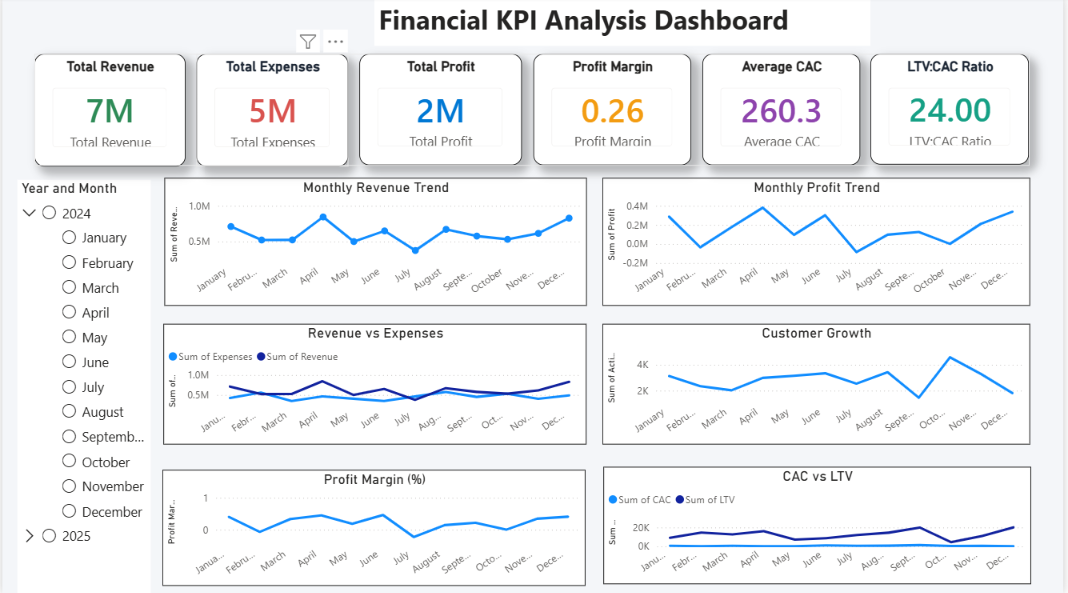

The dashboard page shown, as its layout file describes it:
{"tool":"powerbi","page":{"name":"Page 1","canvas":[1280,720],"ordinal":0},"visuals":[{"type":"cardVisual","title":"Total Revenue","fields":{"Data":["startup_financial_analysis.Total Revenue"]},"box":[38.4,68.6,182.1,135.8],"z":0,"group":"g2"},{"type":"cardVisual","title":"Total Expenses","fields":{"Data":["startup_financial_analysis.Total Expenses"]},"box":[234,68.6,183.5,135.8],"z":1000,"group":"g2"},{"type":"cardVisual","title":"Total Profit","fields":{"Data":["startup_financial_analysis.Total Profit"]},"box":[431,68.6,195.6,134.8],"z":2000,"group":"g2"},{"type":"cardVisual","title":"Profit Margin","fields":{"Data":["startup_financial_analysis.Profit Margin"]},"box":[640.1,68.6,190.2,134.8],"z":3000,"group":"g2"},{"type":"cardVisual","title":"Average CAC","fields":{"Data":["startup_financial_analysis.Average CAC"]},"box":[843.8,68.6,190.2,134.8],"z":4000,"group":"g2"},{"type":"cardVisual","title":"LTV:CAC Ratio","fields":{"Data":["startup_financial_analysis.LTV:CAC Ratio"]},"box":[1047.5,68.6,191.6,133.7],"z":5000,"group":"g2"},{"type":"lineChart","title":"Monthly Revenue Trend","fields":{"Category":["startup_financial_analysis.Month.Variation.Date Hierarchy.Month"],"Y":["Sum(startup_financial_analysis.Revenue)"]},"box":[194.9,218.2,509.4,154.2],"z":6000,"group":"g1"},{"type":"lineChart","title":"Revenue vs Expenses","fields":{"Category":["startup_financial_analysis.Month.Variation.Date Hierarchy.Month"],"Y":["Sum(startup_financial_analysis.Expenses)","Sum(startup_financial_analysis.Revenue)"]},"box":[193.6,393.8,510.8,145.6],"z":7000,"group":"g1"},{"type":"lineChart","title":"Monthly Profit Trend","fields":{"Category":["startup_financial_analysis.Month.Variation.Date Hierarchy.Month"],"Y":["Sum(startup_financial_analysis.Profit)"]},"box":[724.2,218.2,516.1,154.2],"z":8000,"group":"g1"},{"type":"lineChart","title":"Customer Growth","fields":{"Category":["startup_financial_analysis.Month.Variation.Date Hierarchy.Month"],"Y":["Sum(startup_financial_analysis.Active_Customers)"]},"box":[724.2,393.8,516.1,145.6],"z":9000,"group":"g1"},{"type":"lineChart","title":"Profit Margin (%)","fields":{"Category":["startup_financial_analysis.Month.Variation.Date Hierarchy.Month"],"Y":["startup_financial_analysis.Profit Margin"]},"box":[192.8,570.6,510.5,140],"z":10000,"group":"g1"},{"type":"lineChart","title":" CAC vs  LTV","fields":{"Category":["startup_financial_analysis.Month.Variation.Date Hierarchy.Month"],"Y":["Sum(startup_financial_analysis.CAC)","Sum(startup_financial_analysis.LTV)"]},"box":[724.5,566.9,516.1,141.4],"z":11000,"group":"g1"},{"type":"listSlicer","fields":{"Values":["startup_financial_analysis.Month.Variation.Date Hierarchy.Year","startup_financial_analysis.Month.Variation.Date Hierarchy.Month"]},"box":[17.8,220.9,160.5,499.5],"z":11001},{"type":"group","id":"g1","title":"Group 1","box":[192.8,218.2,1047.8,492.4],"z":11002},{"type":"group","id":"g2","title":"Group 2","box":[38.4,68.6,1200.7,135.8],"z":11003},{"type":"textbox","box":[448.7,0,598.3,59],"z":11005}]}

Visuals, with their boxes in screenshot pixels (x1, y1, x2, y2), scaled from the page's 1280x720 canvas onto the 1068x593 screenshot:
"Total Revenue" cardVisual: bbox=(32, 56, 184, 168)
"Total Expenses" cardVisual: bbox=(195, 56, 348, 168)
"Total Profit" cardVisual: bbox=(360, 56, 523, 168)
"Profit Margin" cardVisual: bbox=(534, 56, 693, 168)
"Average CAC" cardVisual: bbox=(704, 56, 863, 168)
"LTV:CAC Ratio" cardVisual: bbox=(874, 56, 1034, 167)
"Monthly Revenue Trend" lineChart: bbox=(163, 180, 588, 307)
"Revenue vs Expenses" lineChart: bbox=(162, 324, 588, 444)
"Monthly Profit Trend" lineChart: bbox=(604, 180, 1035, 307)
"Customer Growth" lineChart: bbox=(604, 324, 1035, 444)
"Profit Margin (%)" lineChart: bbox=(161, 470, 587, 585)
" CAC vs  LTV" lineChart: bbox=(605, 467, 1035, 583)
listSlicer - startup_financial_analysis.Month.Variation.Date Hierarchy.Year x startup_financial_analysis.Month.Variation.Date Hierarchy.Month: bbox=(15, 182, 149, 592)
"Group 1" group: bbox=(161, 180, 1035, 585)
"Group 2" group: bbox=(32, 56, 1034, 168)
textbox: bbox=(374, 0, 874, 49)
